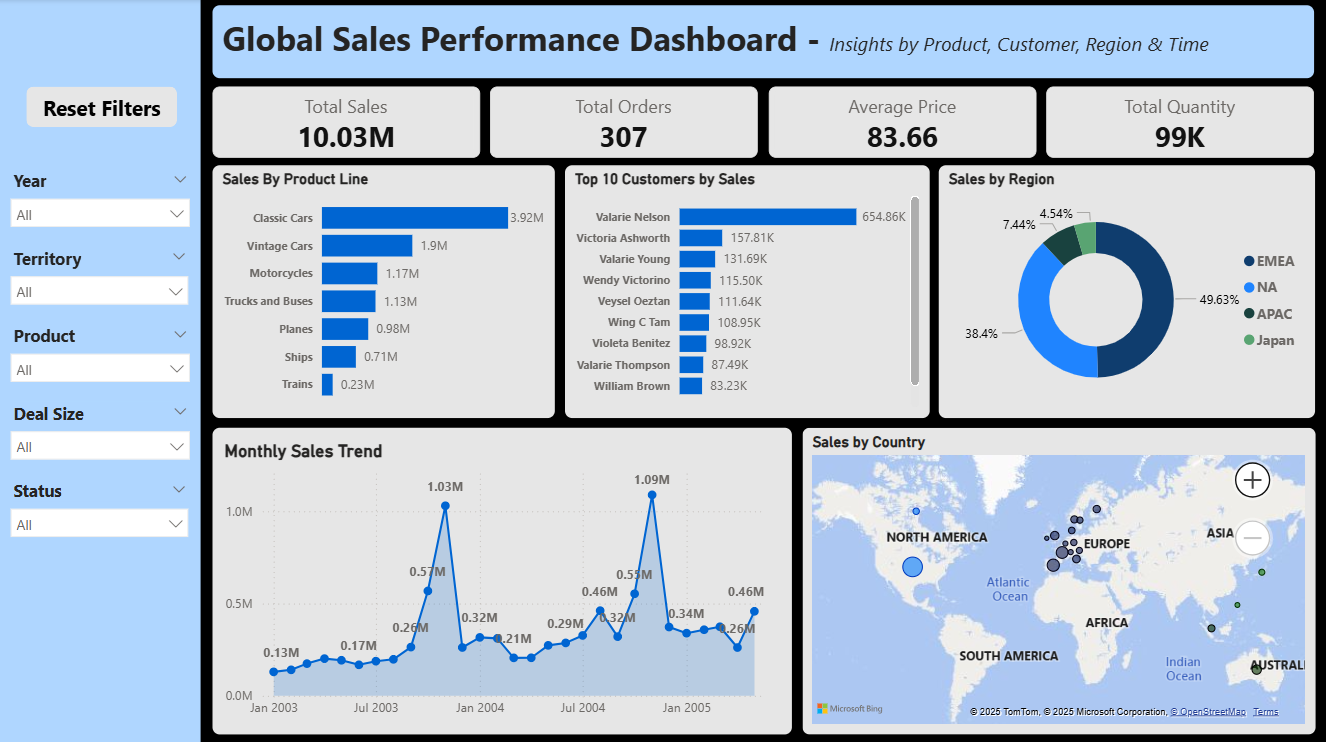

This screenshot's page, from the dashboard's own definition file:
{"tool":"powerbi","page":{"name":"Page 1","canvas":[1280,720],"ordinal":0},"visuals":[{"type":"shape","box":[0,0,193.7,720.8],"z":0},{"type":"lineChart","title":"Monthly Sales Trend","fields":{"Y":["sales_data_sample.Total Sales"],"Category":["sales_data_sample.ORDER_DATE.Variation.Date Hierarchy.Year","sales_data_sample.ORDER_DATE.Variation.Date Hierarchy.Month"]},"box":[205.4,413.3,563,295.9],"z":1000},{"type":"barChart","title":"Sales By Product Line","fields":{"Y":["sales_data_sample.Total Sales"],"Category":["sales_data_sample.PRODUCT_LINE"]},"box":[205.6,159.5,330.3,246.8],"z":2000},{"type":"barChart","title":"Top 10 Customers by Sales","fields":{"Category":["sales_data_sample.CONTACT_FULL_NAME"],"Y":["sales_data_sample.Total Sales"]},"box":[545.9,159.5,351.5,246.8],"z":3000},{"type":"map","title":"Sales by Country","fields":{"Category":["sales_data_sample.COUNTRY"],"Size":["sales_data_sample.Total Sales"]},"box":[774.1,413.3,497.7,295.9],"z":4000},{"type":"donutChart","title":"Sales by Region","fields":{"Y":["sales_data_sample.Total Sales"],"Category":["sales_data_sample.TERRITORY"]},"box":[906.1,159.5,365.2,246.8],"z":5000},{"type":"slicer","title":"Year","fields":{"Values":["sales_data_sample.YEAR_ID"]},"box":[0,159.5,193.2,74.8],"z":6000},{"type":"slicer","title":"Product","fields":{"Values":["sales_data_sample.PRODUCT_LINE"]},"box":[0,309.1,193.2,74.8],"z":7000},{"type":"slicer","title":"Territory","fields":{"Values":["sales_data_sample.TERRITORY"]},"box":[0,234.3,191.9,74.8],"z":8000},{"type":"cardVisual","fields":{"Data":["sales_data_sample.Total Sales"]},"box":[205.4,84.4,260.5,68.5],"z":9000},{"type":"slicer","fields":{"Values":["sales_data_sample.STATUS"]},"box":[0,458.7,191.9,74.8],"z":10000},{"type":"slicer","fields":{"Values":["sales_data_sample.DEAL_SIZE"]},"box":[0,383.9,193.2,74.8],"z":11000},{"type":"textbox","box":[205.1,6,1066.5,70],"z":12000},{"type":"actionButton","box":[24.8,84.5,145.6,39.3],"z":13000},{"type":"cardVisual","fields":{"Data":["sales_data_sample.Total Quantity"]},"box":[1010.1,84,260,68.5],"z":14000},{"type":"cardVisual","fields":{"Data":["sales_data_sample.Average Price"]},"box":[741,84.4,260.5,68.5],"z":15000},{"type":"cardVisual","fields":{"Data":["sales_data_sample.Total Orders"]},"box":[473.2,84.4,260.5,68.5],"z":16000}]}

Visuals, with their boxes in screenshot pixels (x1, y1, x2, y2), scaled from the page's 1280x720 canvas onto the 1326x742 screenshot:
shape: pyautogui.locateOnScreen(0, 0, 201, 741)
"Monthly Sales Trend" lineChart: pyautogui.locateOnScreen(213, 426, 796, 731)
"Sales By Product Line" barChart: pyautogui.locateOnScreen(213, 164, 555, 419)
"Top 10 Customers by Sales" barChart: pyautogui.locateOnScreen(566, 164, 930, 419)
"Sales by Country" map: pyautogui.locateOnScreen(802, 426, 1318, 731)
"Sales by Region" donutChart: pyautogui.locateOnScreen(939, 164, 1317, 419)
"Year" slicer: pyautogui.locateOnScreen(0, 164, 200, 241)
"Product" slicer: pyautogui.locateOnScreen(0, 319, 200, 396)
"Territory" slicer: pyautogui.locateOnScreen(0, 241, 199, 319)
cardVisual - sales_data_sample.Total Sales: pyautogui.locateOnScreen(213, 87, 483, 158)
slicer - sales_data_sample.STATUS: pyautogui.locateOnScreen(0, 473, 199, 550)
slicer - sales_data_sample.DEAL_SIZE: pyautogui.locateOnScreen(0, 396, 200, 473)
textbox: pyautogui.locateOnScreen(212, 6, 1317, 78)
actionButton: pyautogui.locateOnScreen(26, 87, 177, 128)
cardVisual - sales_data_sample.Total Quantity: pyautogui.locateOnScreen(1046, 87, 1316, 157)
cardVisual - sales_data_sample.Average Price: pyautogui.locateOnScreen(768, 87, 1037, 158)
cardVisual - sales_data_sample.Total Orders: pyautogui.locateOnScreen(490, 87, 760, 158)
